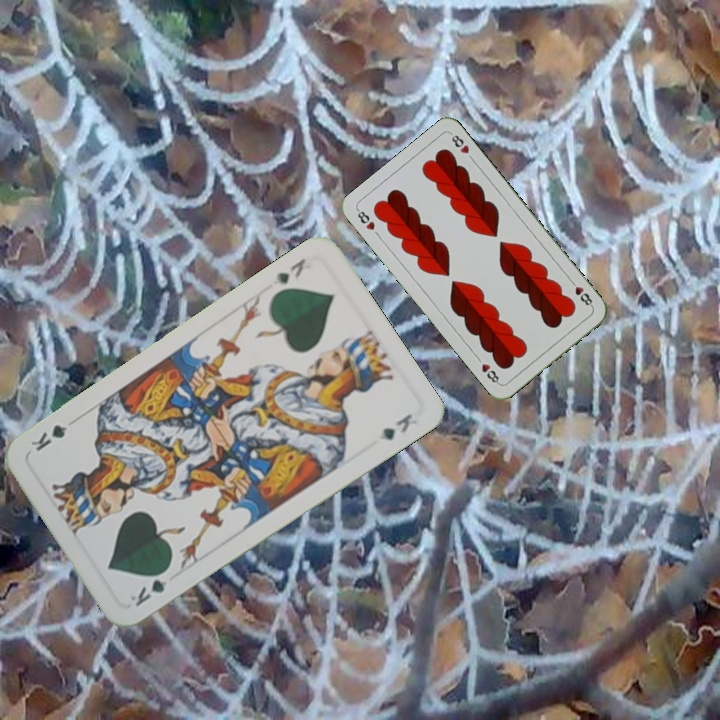GK: (126, 563, 173, 610), (269, 253, 309, 288)
H8: (566, 276, 596, 310), (353, 206, 383, 240)
